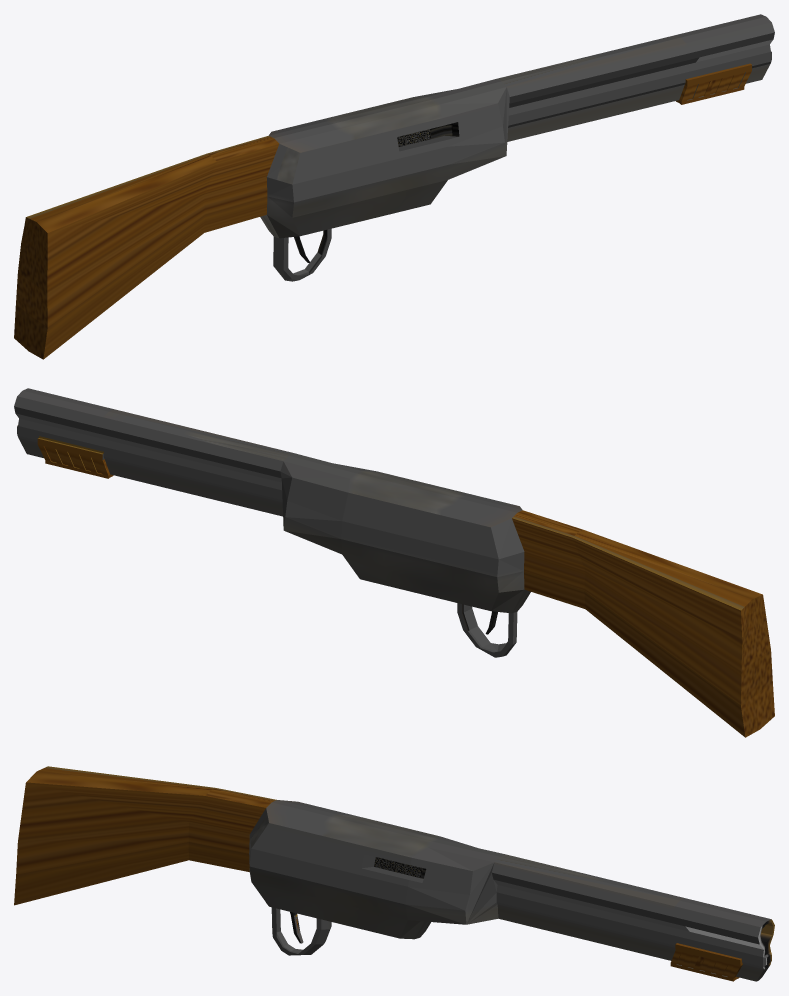
File: shotgun.obj
3 renders of one model, top to bottom at view 1: azimuth 30°, elevation 25°; view 2: azimuth 150°, elevation 25°; view 3: azimuth 330°, elevation 25°, orthographic.
Parts seen in each view (by area): view 1: Shotgun; view 2: Shotgun; view 3: Shotgun.
Boxes of the visible parts, bbox=[...] form: Shotgun: bbox=[14, 14, 774, 359]; Shotgun: bbox=[14, 388, 774, 737]; Shotgun: bbox=[14, 766, 774, 981].
Bounding box in the file's own units: 11.34 × 2.29 × 1.11.
